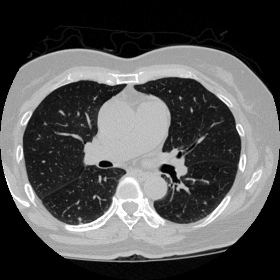nodule: (78, 217, 82, 221)
